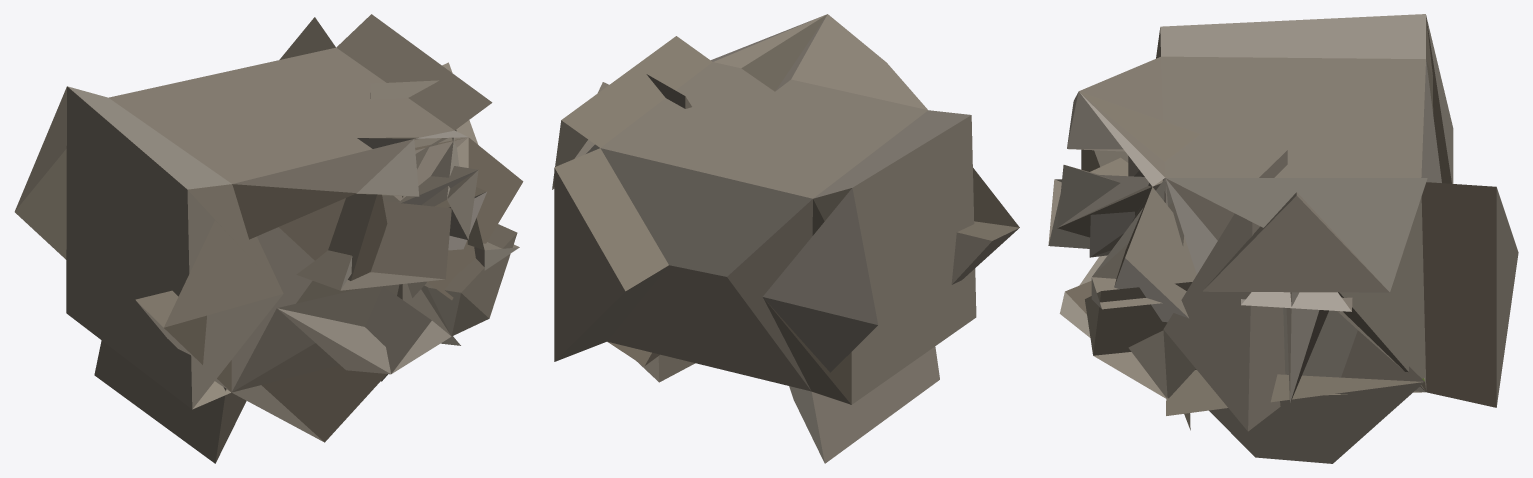
File: ChunkGranite_b.fbx
3 views of the same model, side by side, from view 1: azimuth 30°, elevation 25°; view 2: azimuth 150°, elevation 25°; view 3: azimuth 270°, elevation 25° (orthographic). The views are drawn at different scales.
Visible parts, largest first — view 1: ChunkGranite_b; view 2: ChunkGranite_b; view 3: ChunkGranite_b.
Part boxes in pixels (x1=…): ChunkGranite_b: x1=14, y1=14, x2=523, y2=463; ChunkGranite_b: x1=552, y1=14, x2=1019, y2=463; ChunkGranite_b: x1=1048, y1=14, x2=1518, y2=463.
Size of what is drawn, in the model's own units: 0.4898 by 0.4181 by 0.4958.
